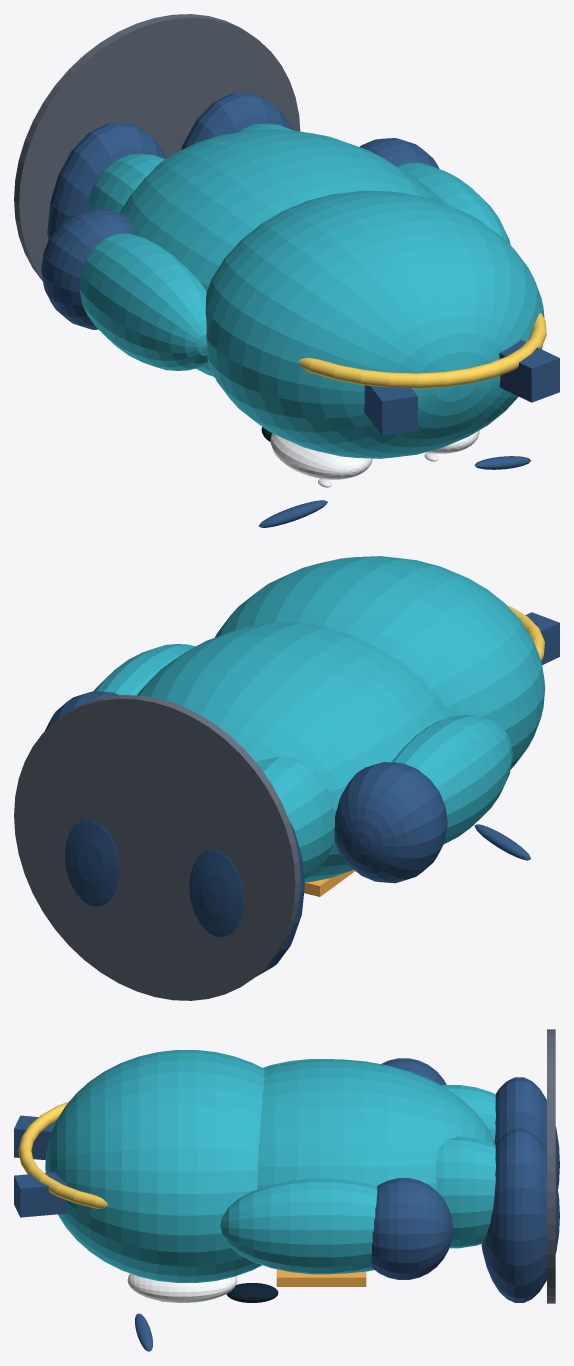
The model's file is luma_reaction_worried.glb.
3 renders of one model, top to bottom at view 1: azimuth 30°, elevation 25°; view 2: azimuth 150°, elevation 25°; view 3: azimuth 270°, elevation 25°, orthographic. The views are drawn at different scales.
Visible parts, largest first — view 1: CHR_Head, CHR_DisplayBase, CHR_Torso, CHR_LeftArm, CHR_LeftHand, CHR_LeftFoot, CHR_StatusRing, CHR_RightFoot, CHR_RightArm, CHR_LeftLeg, CHR_RightAntenna, CHR_LeftEyeWhite (+3 smaller); view 2: CHR_DisplayBase, CHR_Torso, CHR_Head, CHR_LeftHand, CHR_LeftArm, CHR_LeftLeg, CHR_LeftFoot, CHR_RightFoot, CHR_RightArm, CHR_LeftAntenna, CHR_LeftBrow, CHR_RightHand (+1 smaller); view 3: CHR_Head, CHR_Torso, CHR_RightArm, CHR_RightFoot, CHR_RightHand, CHR_RightLeg, CHR_LeftFoot, CHR_DisplayBase, CHR_StatusRing, CHR_RightEyeWhite, CHR_RightAntenna, CHR_ChestSensor (+5 smaller).
Part boxes in pixels (box(x1,y1,x2,y2)): CHR_Head: box(205, 190, 544, 458); CHR_DisplayBase: box(14, 14, 300, 281); CHR_Torso: box(120, 129, 432, 376); CHR_LeftArm: box(79, 233, 207, 370); CHR_LeftHand: box(41, 208, 131, 329); CHR_LeftFoot: box(47, 123, 167, 240); CHR_StatusRing: box(299, 313, 546, 388); CHR_RightFoot: box(181, 93, 292, 149); CHR_RightArm: box(397, 162, 510, 244); CHR_LeftLeg: box(87, 154, 164, 212); CHR_RightAntenna: box(499, 339, 559, 402); CHR_LeftEyeWhite: box(270, 433, 372, 479); CHR_DisplayBase: box(14, 695, 300, 1000); CHR_Torso: box(137, 622, 451, 882); CHR_Head: box(215, 556, 545, 769); CHR_LeftHand: box(334, 762, 447, 883); CHR_LeftArm: box(391, 714, 512, 843); CHR_LeftLeg: box(256, 756, 334, 879); CHR_LeftFoot: box(189, 822, 304, 975); CHR_RightFoot: box(65, 818, 119, 906); CHR_RightArm: box(94, 644, 194, 695); CHR_LeftAntenna: box(525, 612, 559, 665); CHR_LeftBrow: box(474, 824, 530, 860); CHR_RightHand: box(45, 691, 118, 730); CHR_Head: box(45, 1050, 264, 1282); CHR_Torso: box(257, 1059, 495, 1273); CHR_RightArm: box(220, 1178, 377, 1274); CHR_RightFoot: box(481, 1128, 559, 1302); CHR_RightHand: box(371, 1178, 452, 1279); CHR_RightLeg: box(435, 1136, 495, 1248); CHR_LeftFoot: box(494, 1077, 559, 1188); CHR_DisplayBase: box(547, 1029, 555, 1303); CHR_StatusRing: box(18, 1101, 107, 1208); CHR_RightEyeWhite: box(127, 1273, 237, 1302); CHR_RightAntenna: box(14, 1172, 68, 1217); CHR_ChestSensor: box(276, 1269, 366, 1286).
Bounding box in the file's own units: 2.64 × 1.94 × 3.78.
